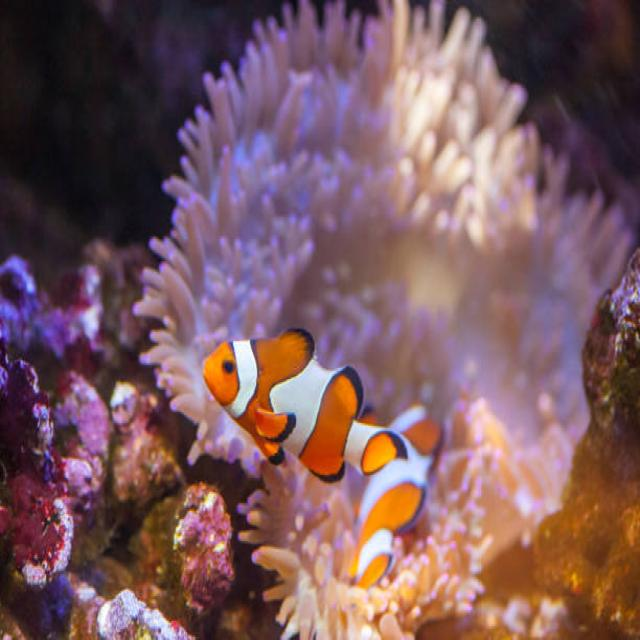ClownFish: (199, 328, 396, 482), (350, 401, 442, 583)
